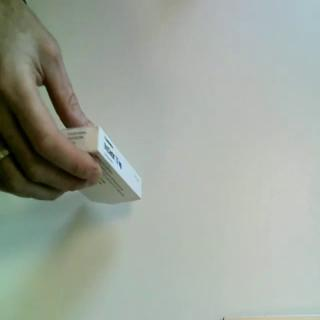oxycontin15mg: (58, 124, 144, 206)
